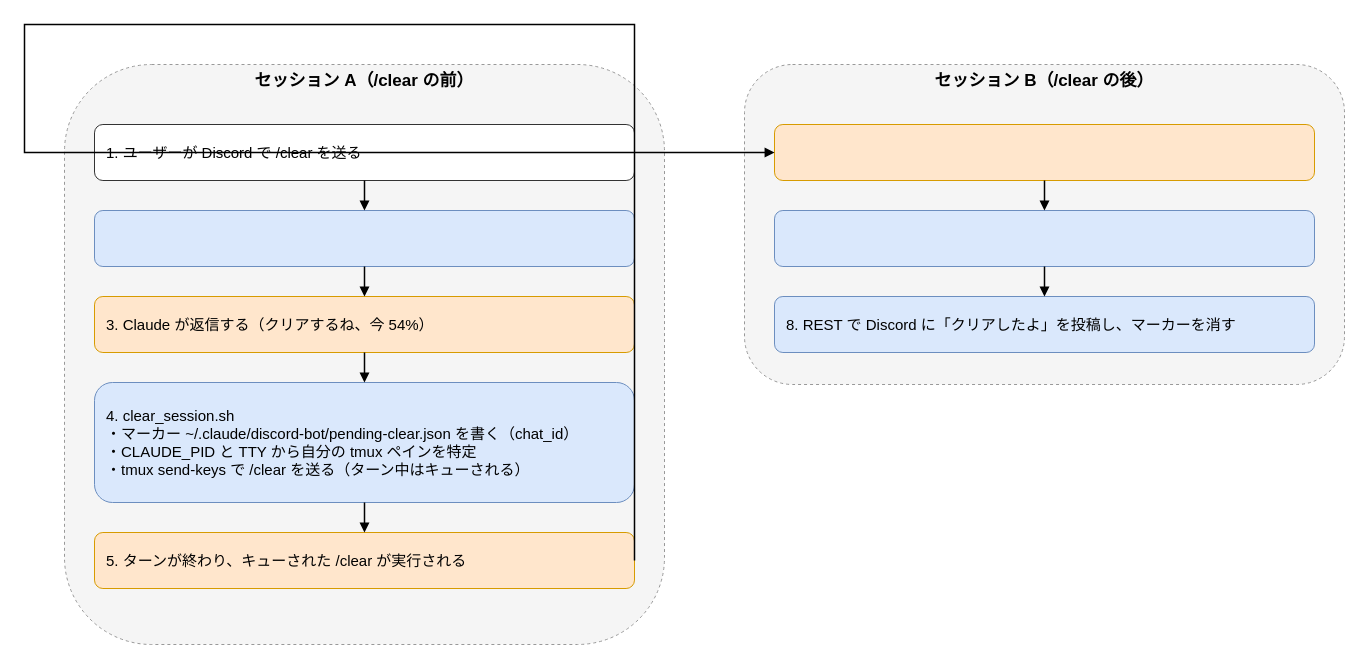
The diagram is 1363 pixels wide and 663 high, and some of its shapes have lost their labels. The centre of each missing label's shape, as x and y in pixels:
2. channel サーバーがチャンネル通知として Claude に渡す: [364,238]
6. 新しいセッションが始まる（同じプロセス、新しいセッション ID）: [1044,152]
7. SessionStart フック（matcher: clear）がマーカーを読む: [1044,238]
